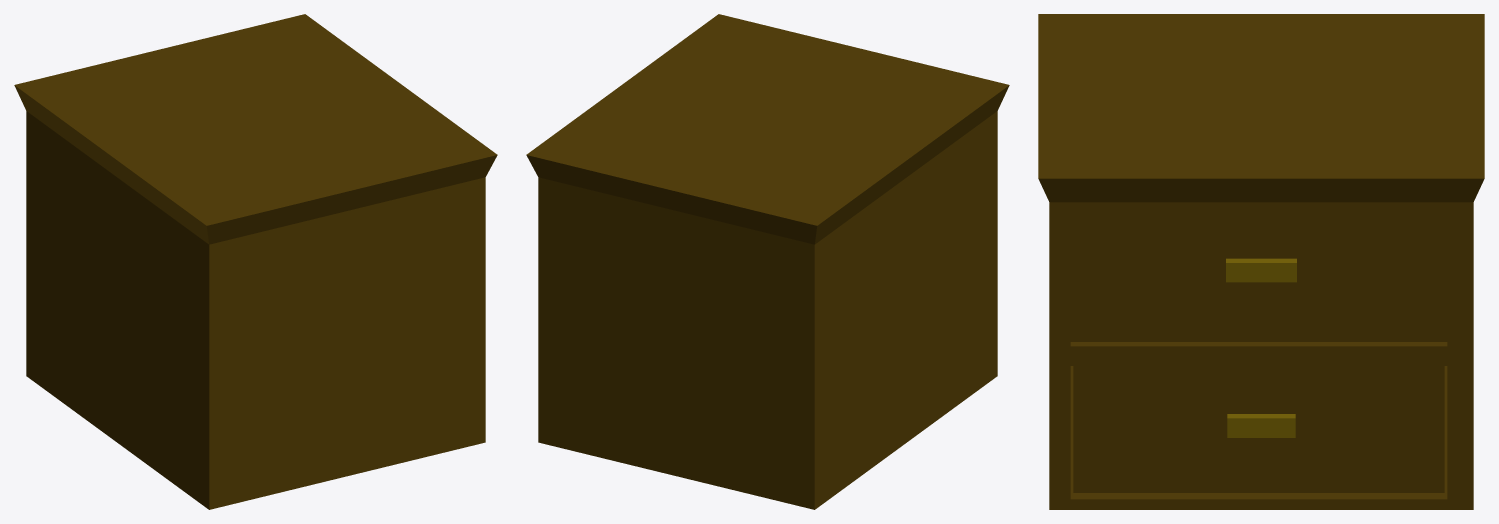
File: NightStand.fbx
3 renders of one model, left to right at view 1: azimuth 30°, elevation 25°; view 2: azimuth 150°, elevation 25°; view 3: azimuth 270°, elevation 25°, orthographic. The views are drawn at different scales.
Parts seen in each view (by area): view 1: NightStand; view 2: NightStand; view 3: NightStand, NightStandD.
Boxes of the visible parts, bbox=[...] form: NightStand: bbox=[14, 14, 497, 509]; NightStand: bbox=[526, 14, 1009, 509]; NightStand: bbox=[1038, 14, 1484, 509]; NightStandD: bbox=[1073, 366, 1444, 492].
Size of the model in its own units: 210 by 200 by 241.
